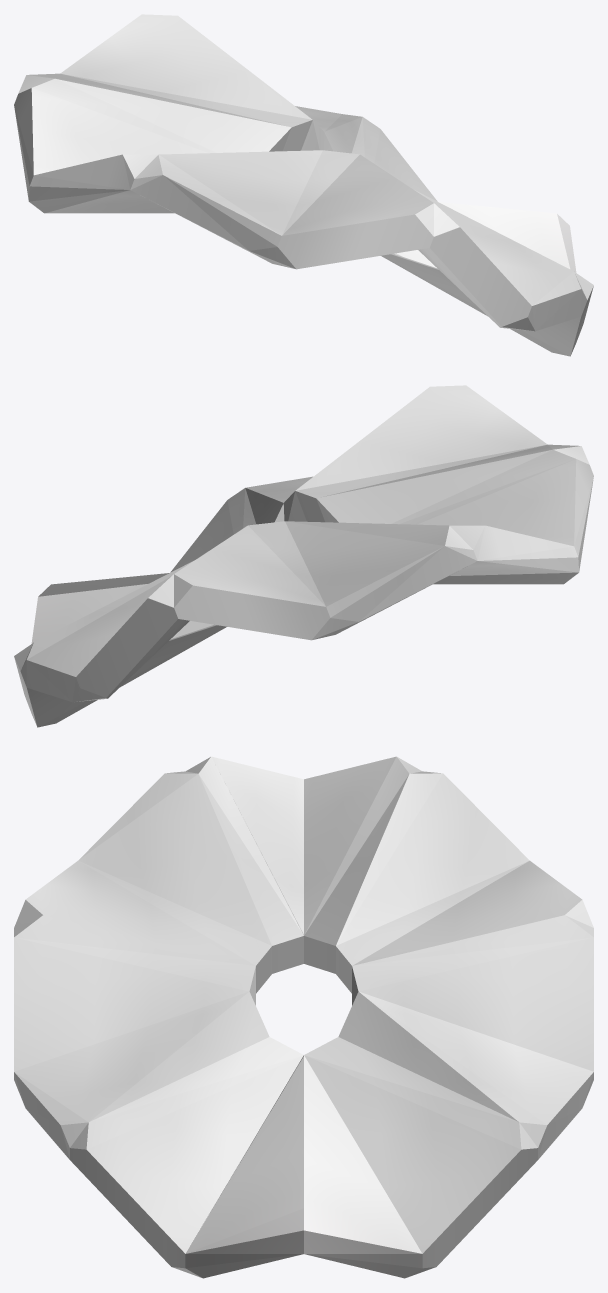
The model's file is CLOWN FRILL.fbx.
3 renders of one model, top to bottom at view 1: azimuth 30°, elevation 25°; view 2: azimuth 150°, elevation 25°; view 3: azimuth 270°, elevation 25°, orthographic.
Parts seen in each view (by area): view 1: CLOWN_FRILL; view 2: CLOWN_FRILL; view 3: CLOWN_FRILL.
Boxes of the visible parts, box(x1,y1,x2,y2) form: CLOWN_FRILL: box(14, 14, 593, 356); CLOWN_FRILL: box(14, 385, 593, 727); CLOWN_FRILL: box(14, 756, 593, 1278).
Bounding box in the file's own units: 39.73 × 20.88 × 36.2.
